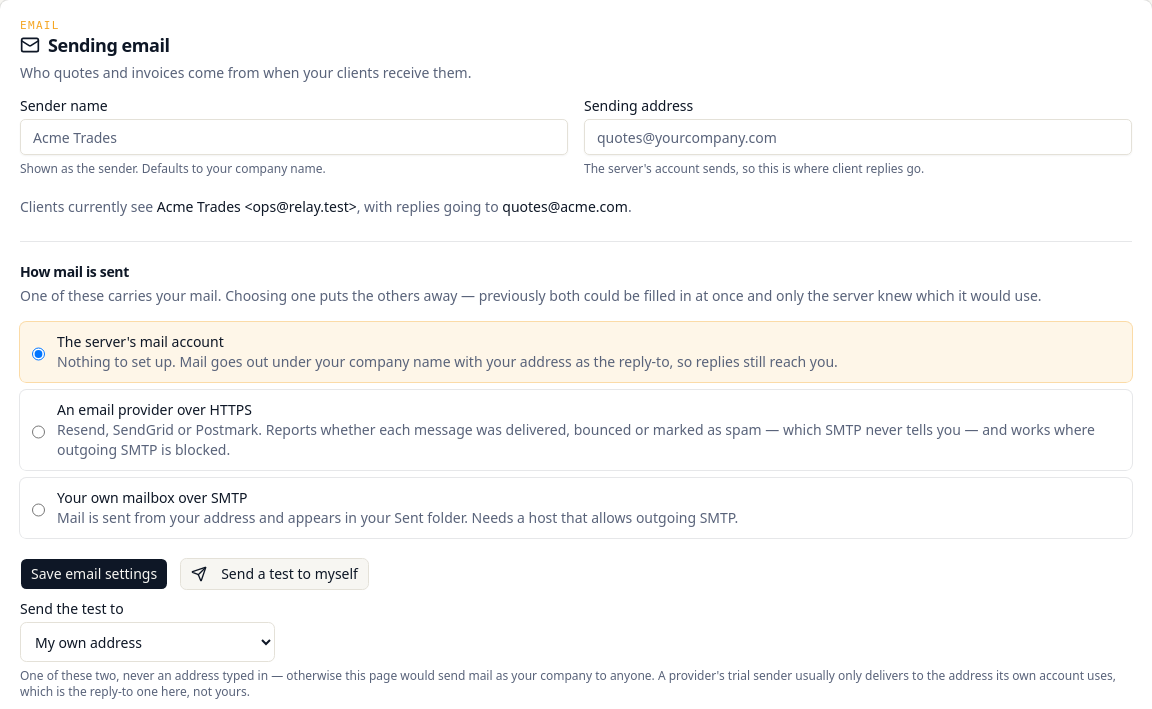
Test: the test send › reports a refusal in full rather than as a generic failure
What coordinates should you click on to do the following:
click the button "Send a test to myself"
I would click on:
 (275, 574)
Its box is left=180, top=558, right=369, bottom=590.
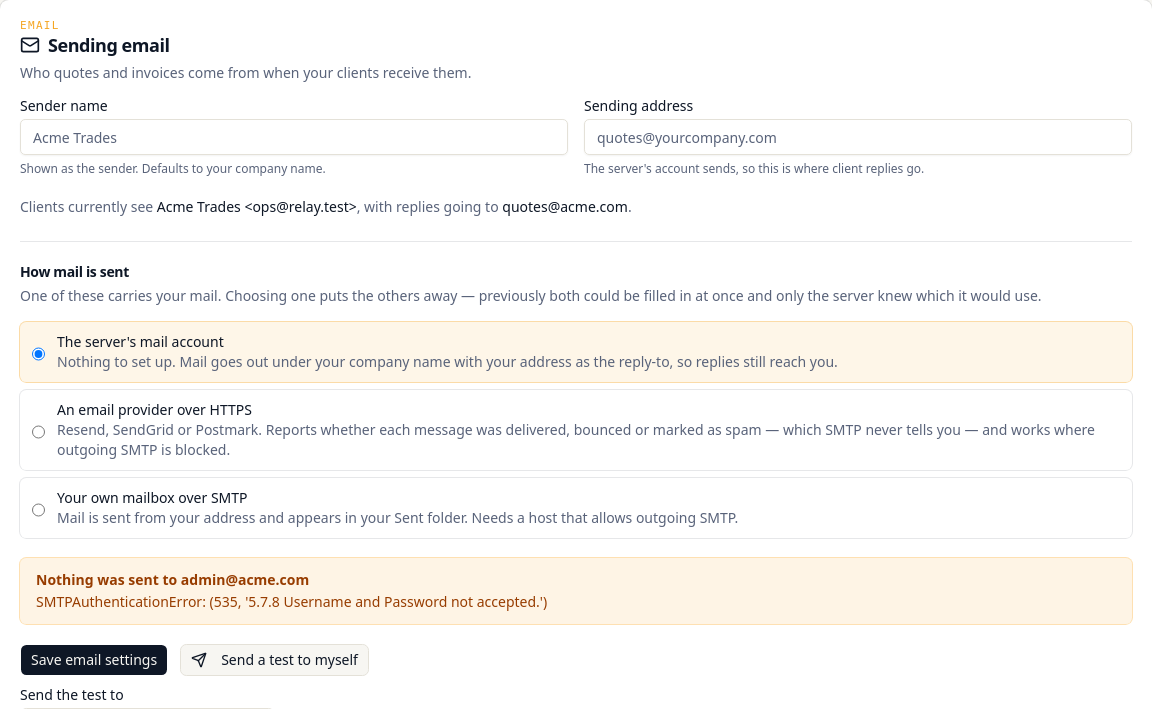
Expected: the text "Nothing was sent to admin@acme.com" is shown, left=36, top=570, right=309, bottom=589
Expected: the text "5.7.8" is shown, left=36, top=592, right=547, bottom=611
